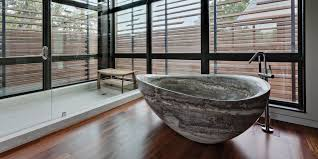bathub: (132, 70, 271, 144)
